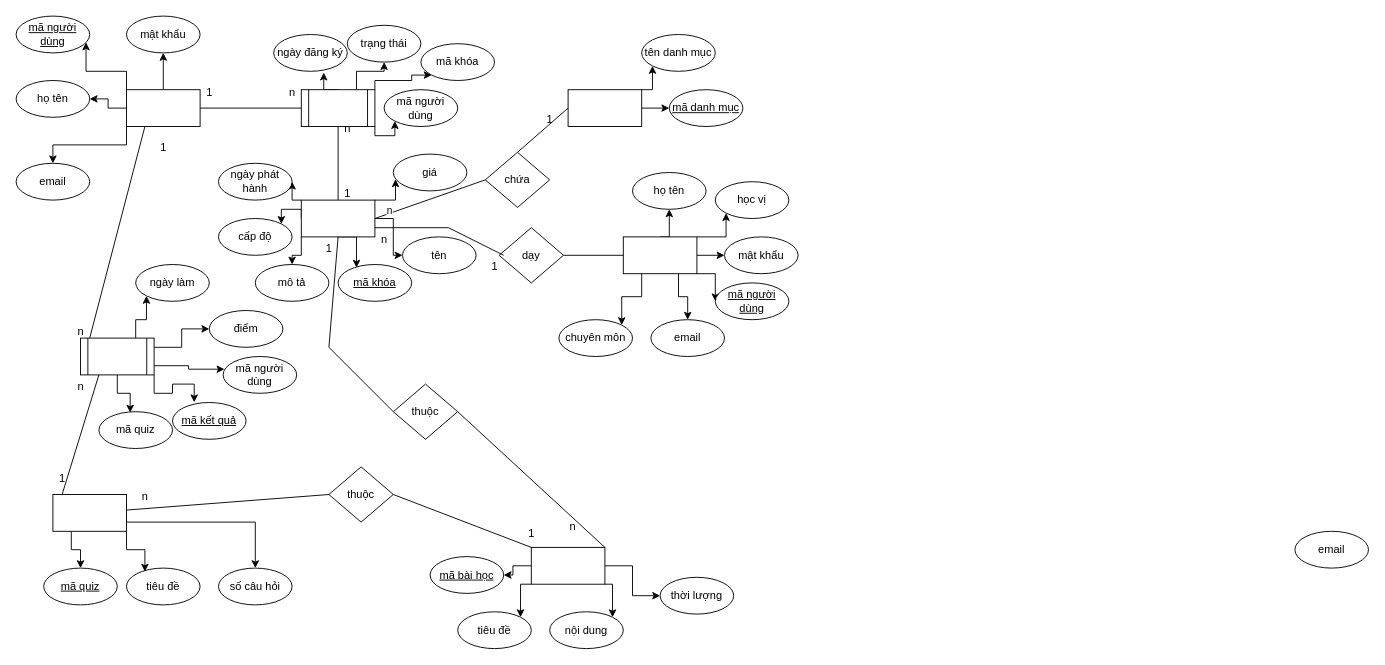
The diagram is 1385 pixels wide and 665 high, and some of its shapes have lost their labels. Each missing label, with the box of its shape:
Bài học: (530, 546, 605, 584)
Bài kiểm tra: (52, 494, 126, 531)
Danh mục khóa học: (567, 89, 642, 126)
Giảng viên: (622, 236, 697, 274)
Học viên: (126, 89, 200, 126)
Khóa học: (300, 199, 375, 237)
Kết quả: (80, 337, 154, 375)
Đăng ký học: (300, 89, 375, 126)
